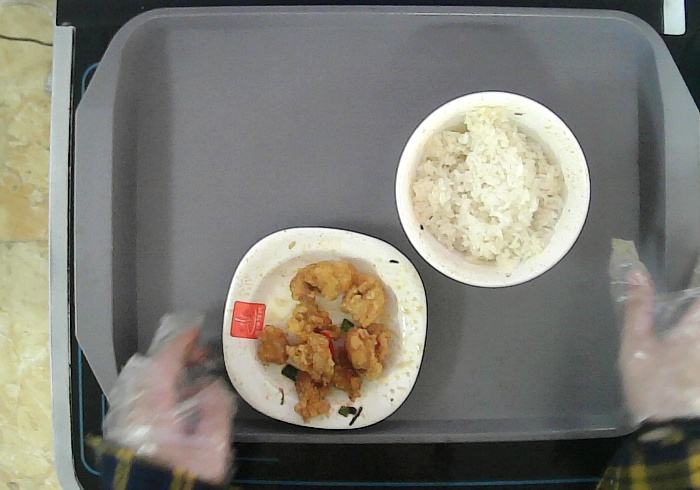SHKJ-Bai_Se_Si_Fang_Cai_Die: (221, 224, 430, 430)
SHKJ-Fan_Wan: (392, 89, 594, 289)
